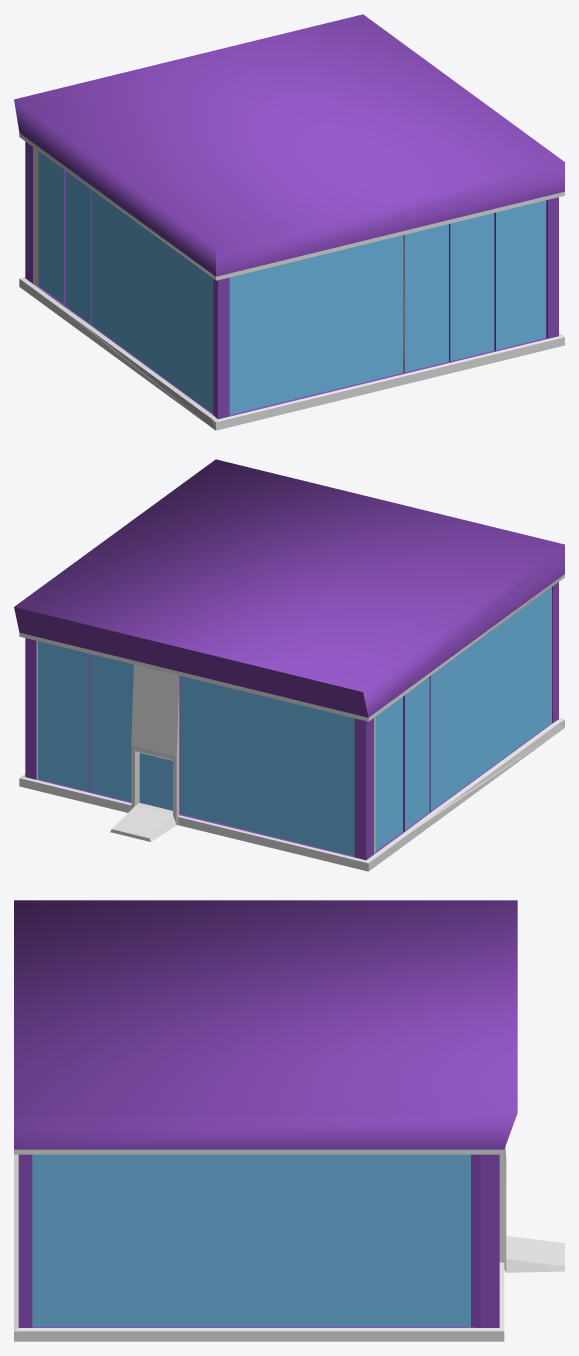
The model's file is Shop8x8x4Purple.fbx.
3 views of the same model, one above another, from view 1: azimuth 30°, elevation 25°; view 2: azimuth 150°, elevation 25°; view 3: azimuth 270°, elevation 25° (orthographic). The views are drawn at different scales.
Visible parts, largest first — view 1: Shop.001; view 2: Shop.001; view 3: Shop.001.
Part boxes in pixels (<box>): Shop.001: <box>14,14,564,430</box>; Shop.001: <box>14,459,564,871</box>; Shop.001: <box>14,900,564,1341</box>.
Size of the model in its own units: 7.96 by 4 by 8.72.
1 material, 1 textured.
